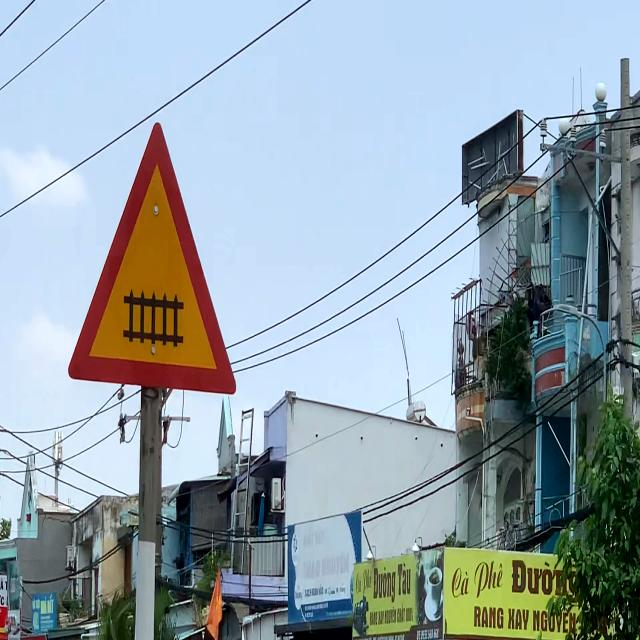W.210: (53, 103, 246, 416)
